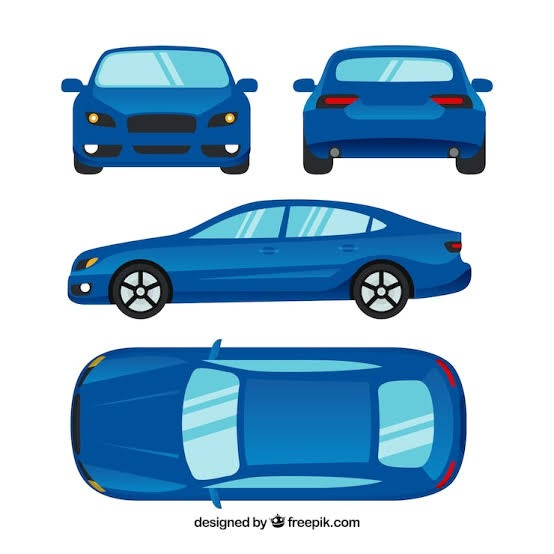car: (80, 198, 482, 303), (299, 46, 491, 168)
